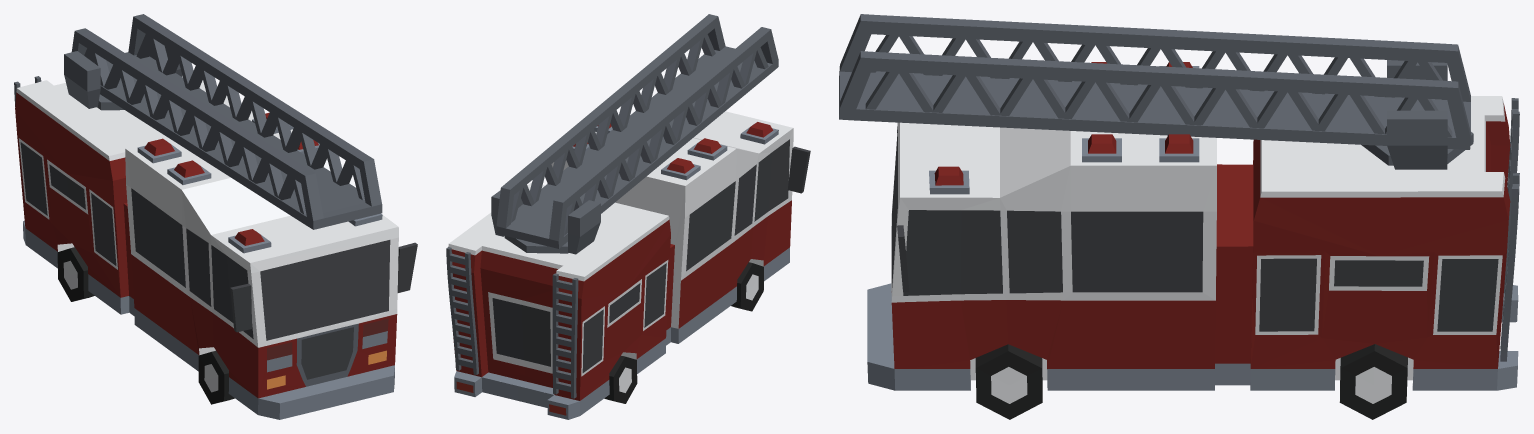
The model's file is Vehicles_Fire_Truck.fbx.
The picture shows the model from 3 angles, left to right: view 1: azimuth 30°, elevation 25°; view 2: azimuth 150°, elevation 25°; view 3: azimuth 270°, elevation 25°; orthographic projection. The views are drawn at different scales.
Visible parts, largest first — view 1: Vehicles_Fire_Truck; view 2: Vehicles_Fire_Truck; view 3: Vehicles_Fire_Truck.
Part boxes in pixels (<box>): Vehicles_Fire_Truck: <box>14,14,417,419</box>; Vehicles_Fire_Truck: <box>446,14,810,419</box>; Vehicles_Fire_Truck: <box>839,14,1519,419</box>.
Size of the model in its own units: 247 by 334 by 607.
